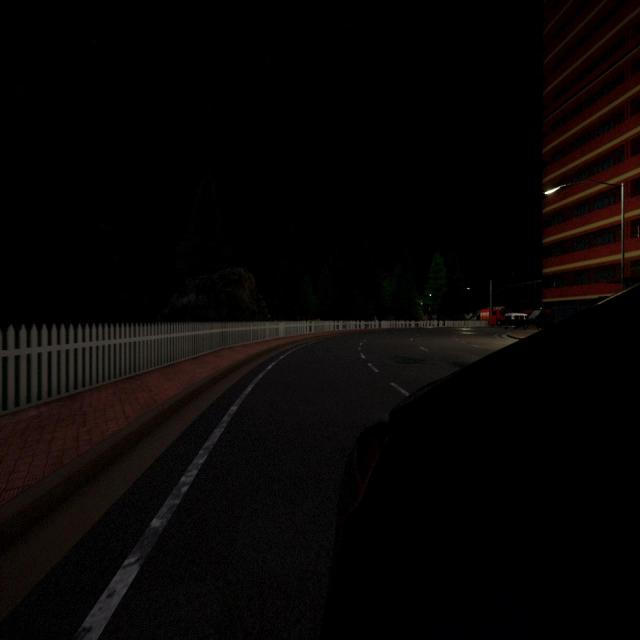Vehicle: (328, 286, 640, 640), (480, 306, 504, 326), (504, 313, 528, 331)
